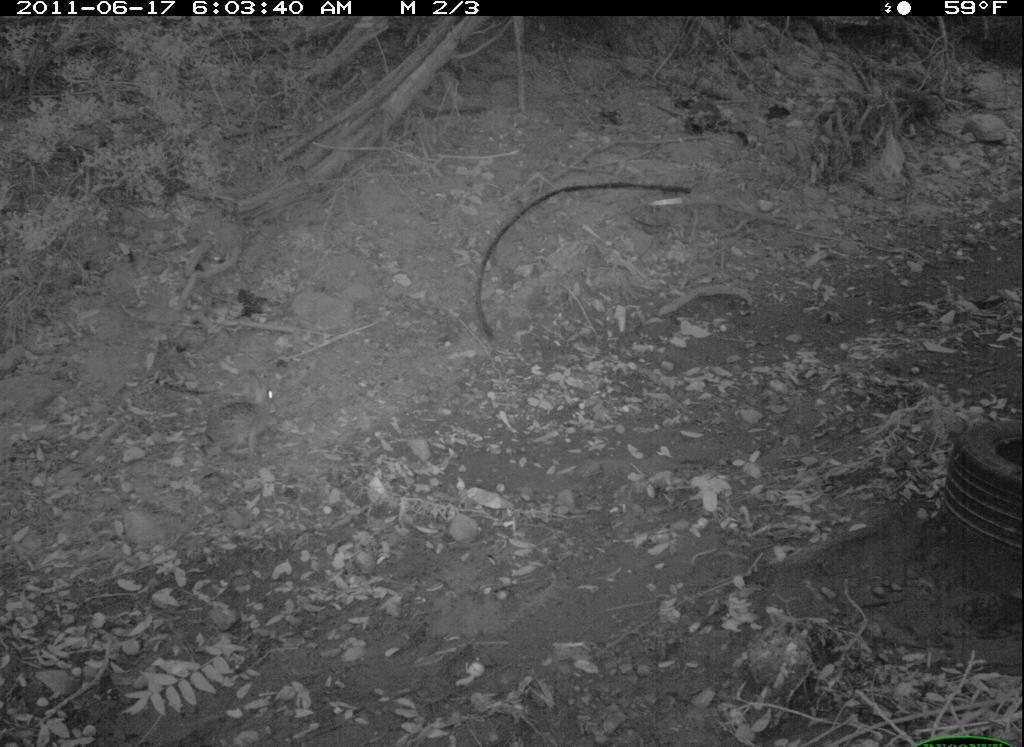rabbit: (203, 370, 280, 464)
